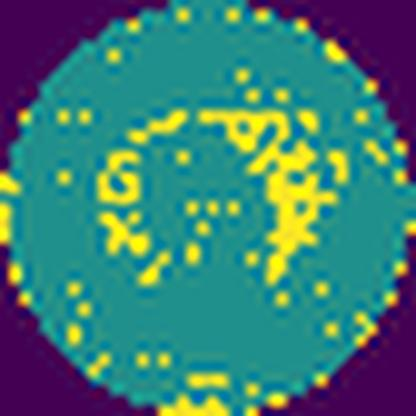Donut: (89, 96, 344, 295)
